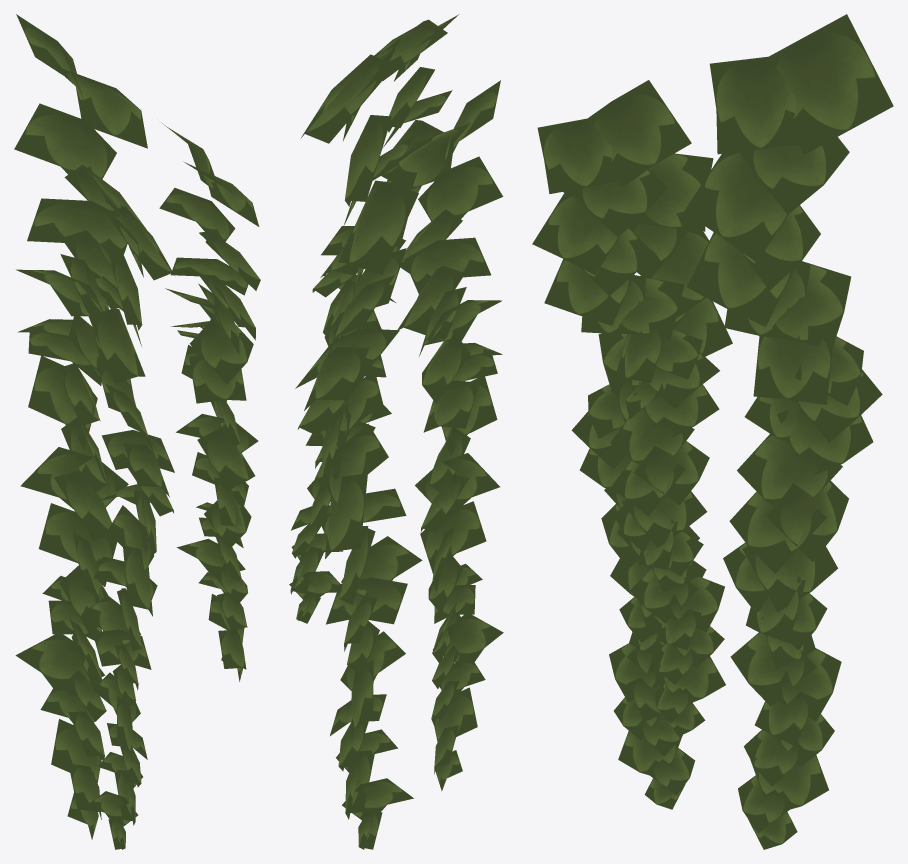
Rendered from SM_Ivy_1.fbx.
3 views of the same model, side by side, from view 1: azimuth 30°, elevation 25°; view 2: azimuth 150°, elevation 25°; view 3: azimuth 270°, elevation 25° (orthographic). The views are drawn at different scales.
Parts seen in each view (by area): view 1: SM_Ivy_1_LOD0; view 2: SM_Ivy_1_LOD0; view 3: SM_Ivy_1_LOD0.
Boxes of the visible parts, x1,y1,x2,y2 form: SM_Ivy_1_LOD0: [14, 14, 260, 849]; SM_Ivy_1_LOD0: [289, 14, 503, 849]; SM_Ivy_1_LOD0: [532, 14, 893, 849].
Size of the model in its own units: 43.37 by 79.03 by 197.
Materials: 1 (1 with a texture image).
